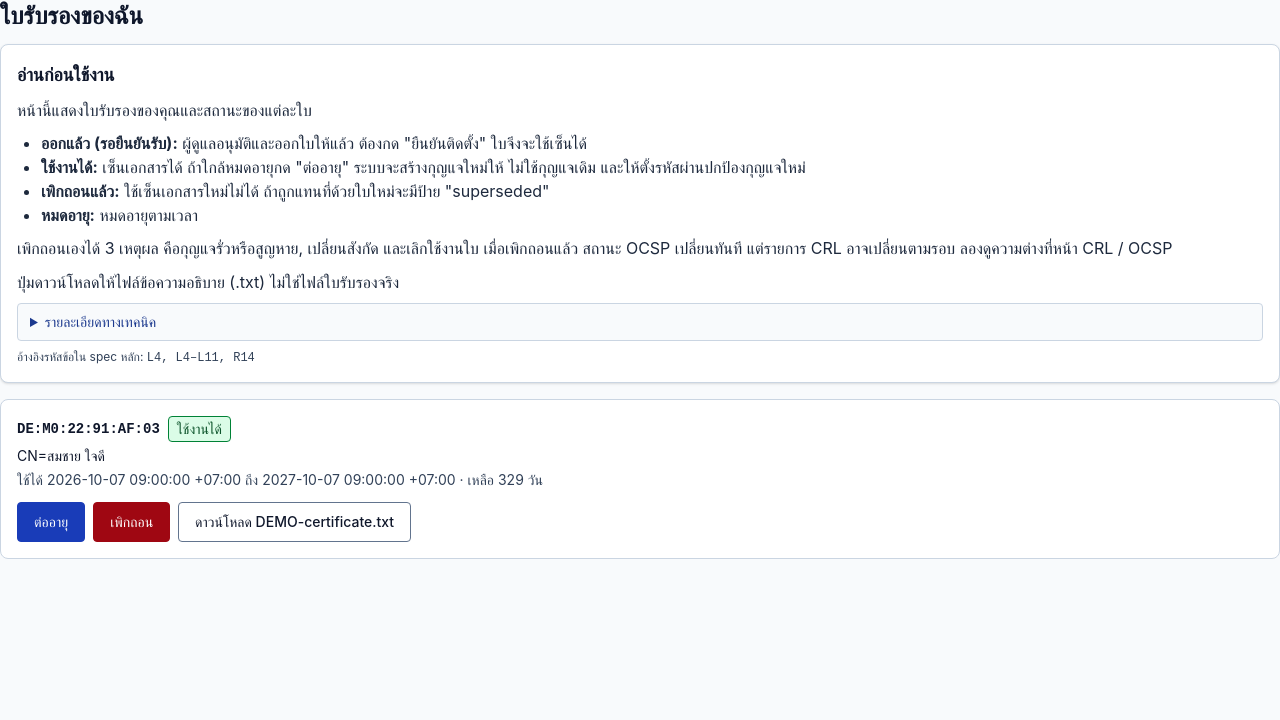
Scenario: /certs › cancelling the renew passphrase dialog renews nothing (F27)
Click the button "ต่ออายุ".
click(51, 522)  # box 17,502 -> 85,542
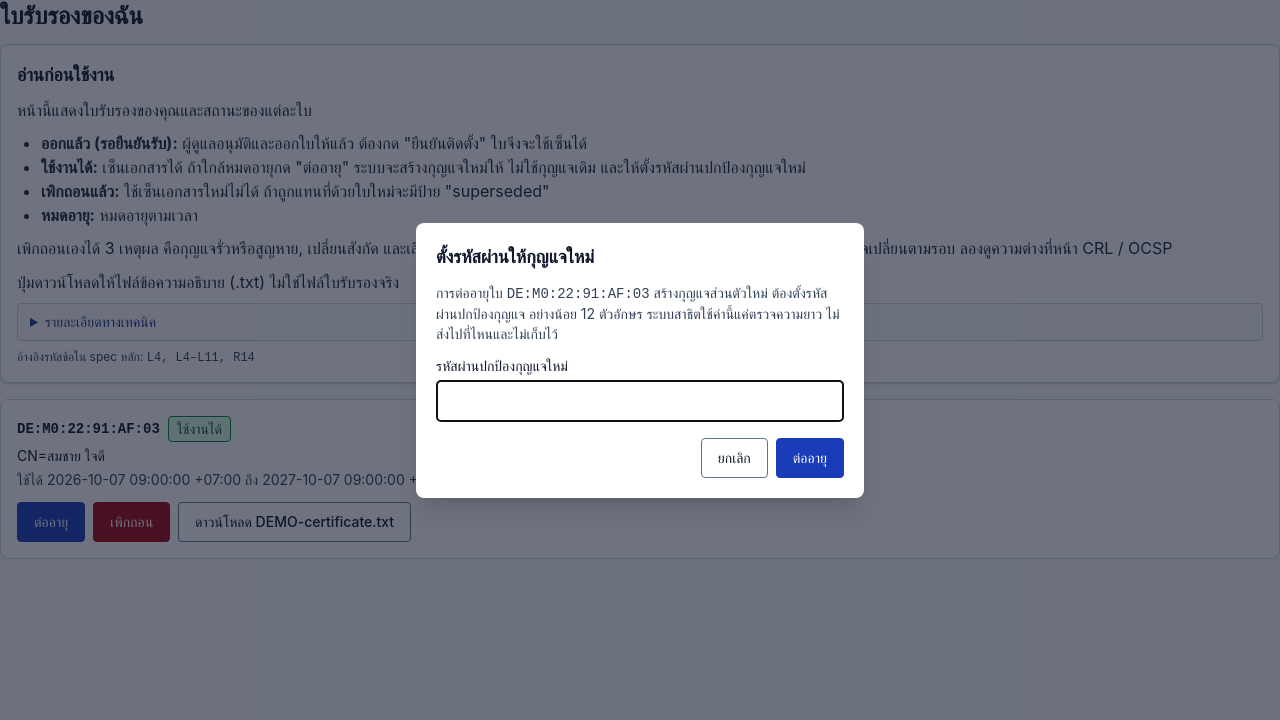
Click the button "ยกเลิก".
click(734, 458)  # box 701,438 -> 768,478
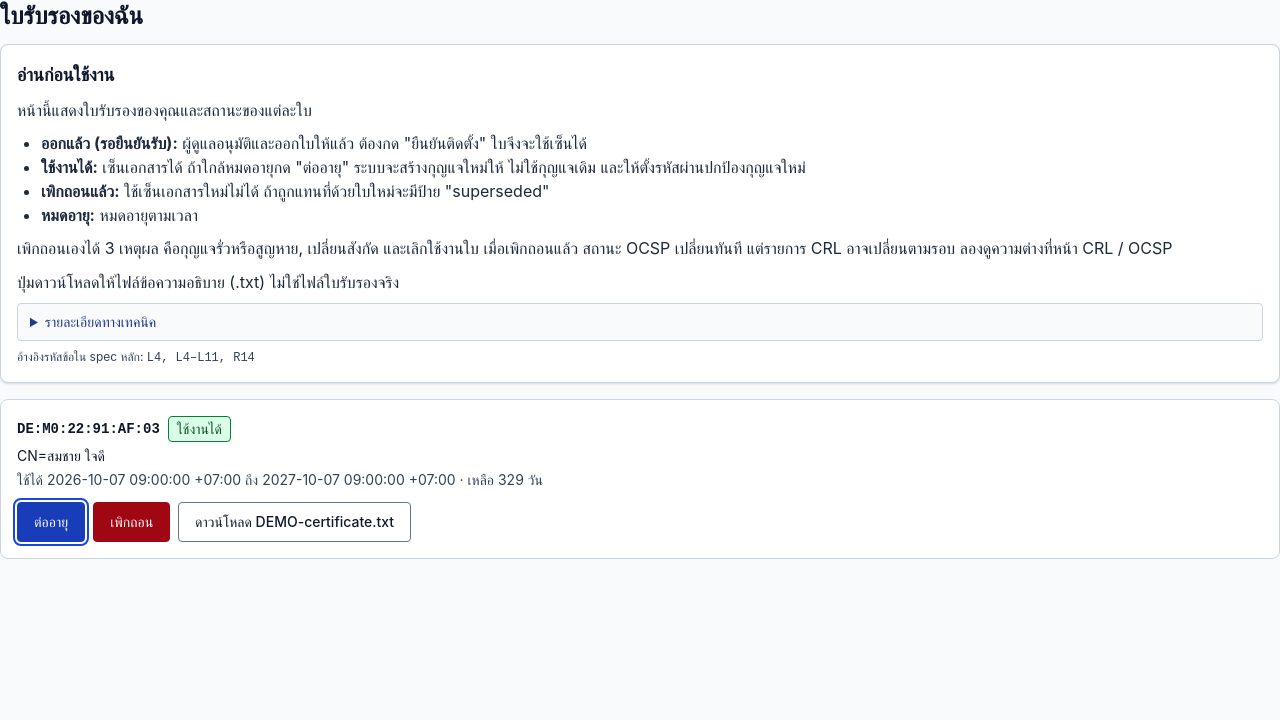
Check: the dialog with test id "certs-passphrase-dialog" is gone
